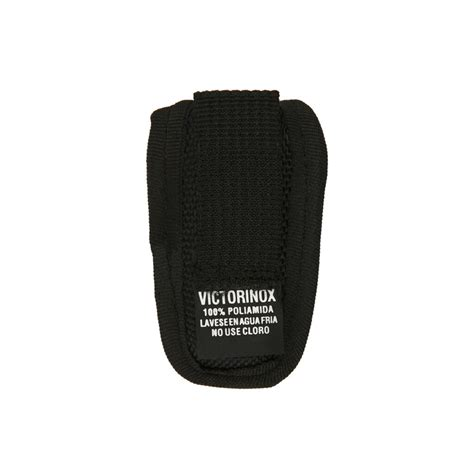nylon: (147, 89, 329, 388)
